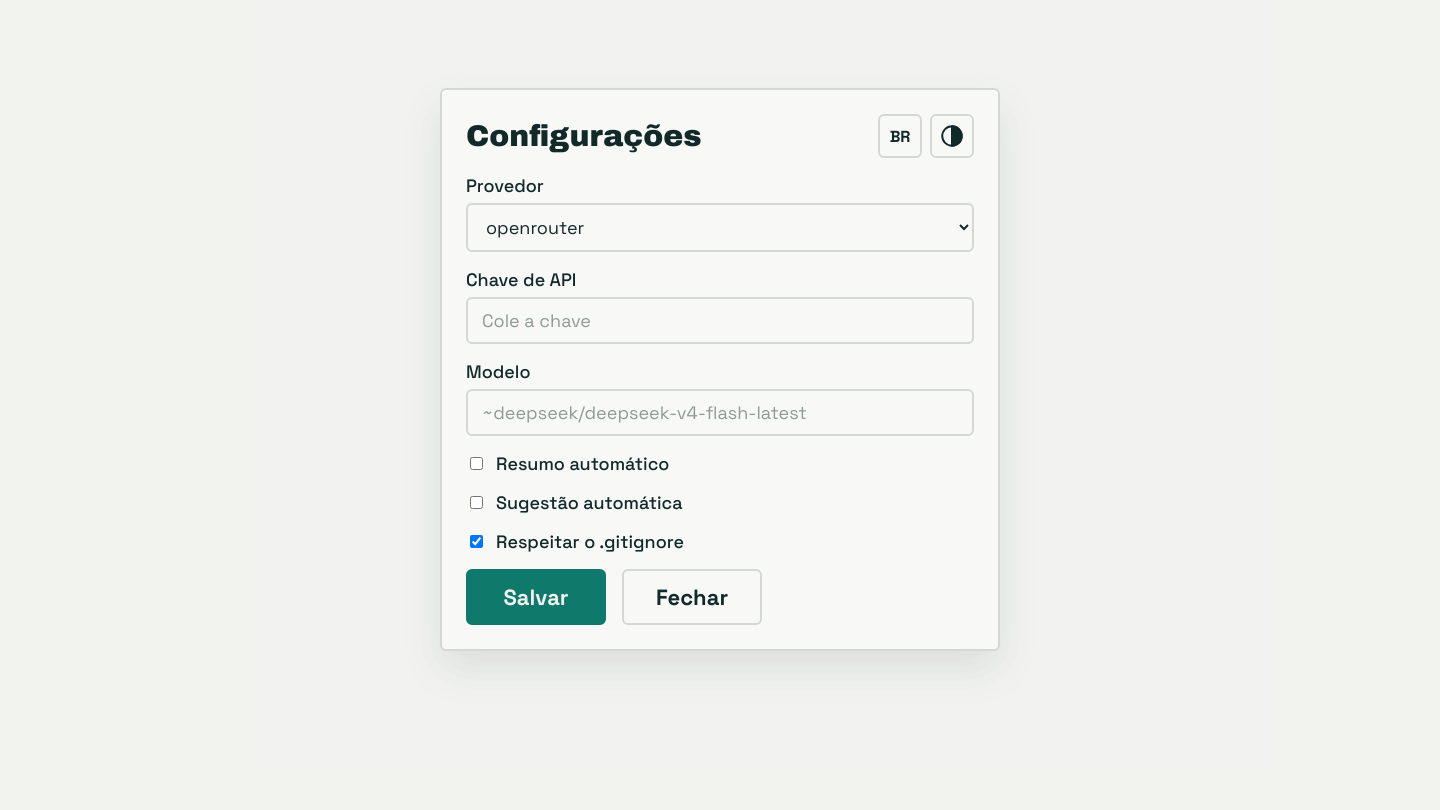
Test case: SettingsDialog theme button › keeps the theme and shows the error when the server refuses
Click the button named "Tema: Seguir o sistema": (952, 136) [930,114,974,158]
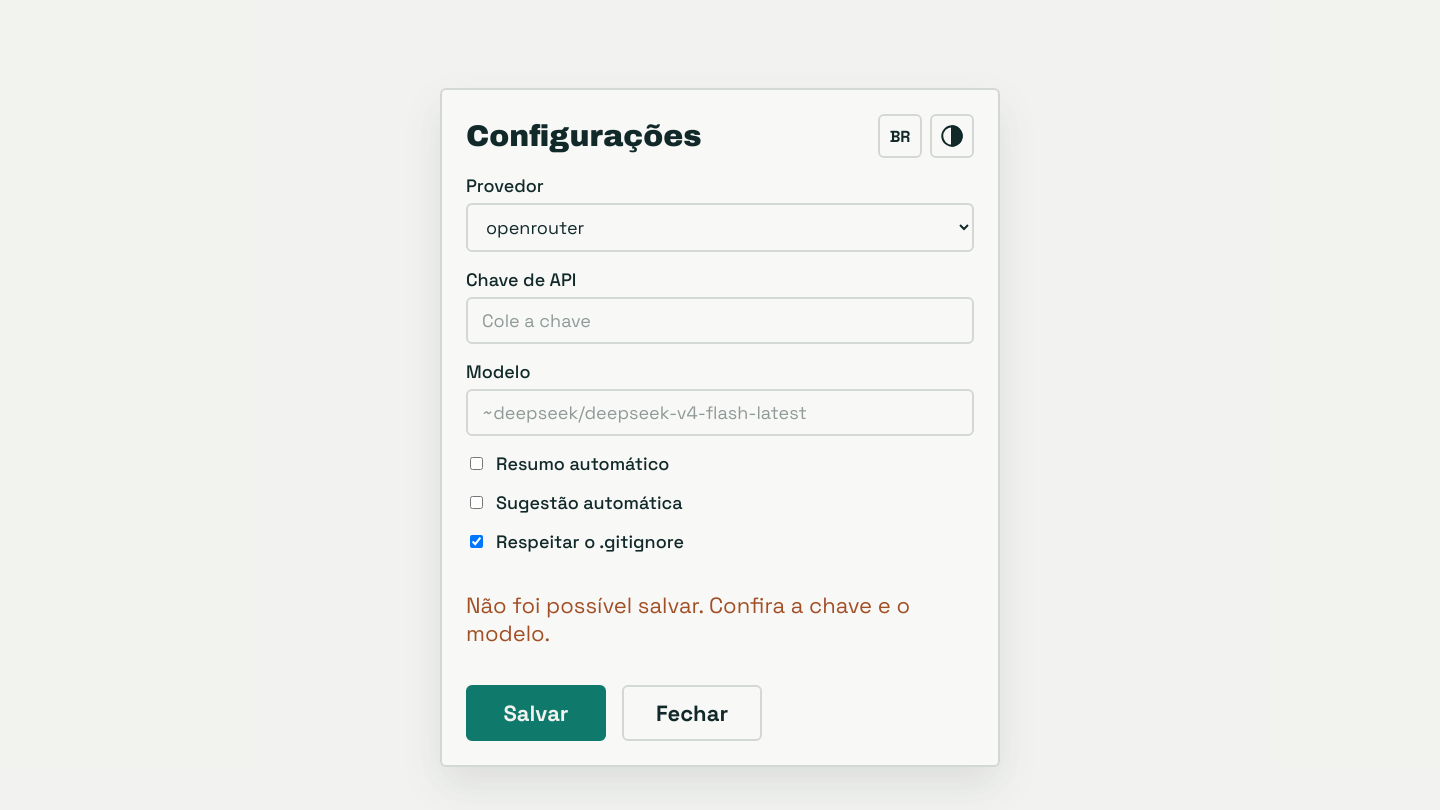
Check: the text "Não foi possível salvar. Confira a chave e o modelo." is shown, box [466,591,974,647]
